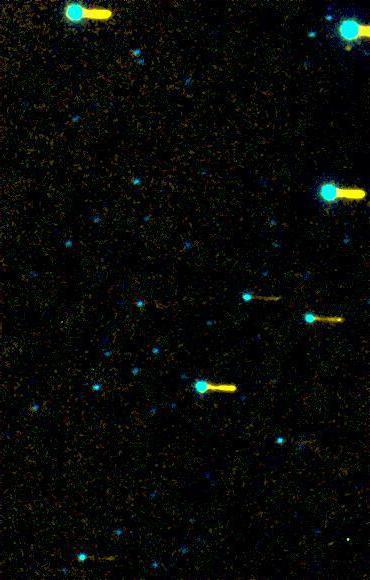star: (340, 32, 370, 62)
